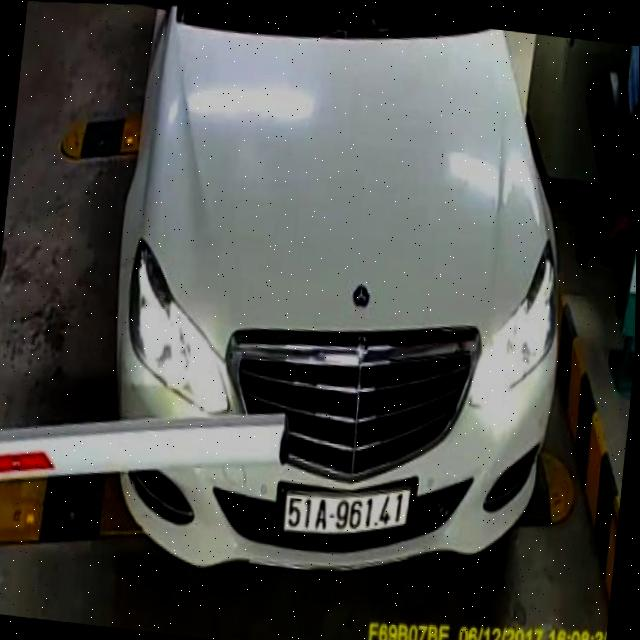car: (84, 3, 600, 617)
plate: (284, 473, 414, 552)
